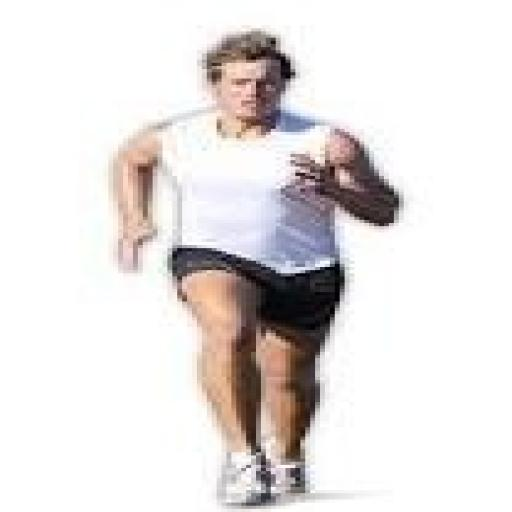running: (103, 28, 404, 506)
